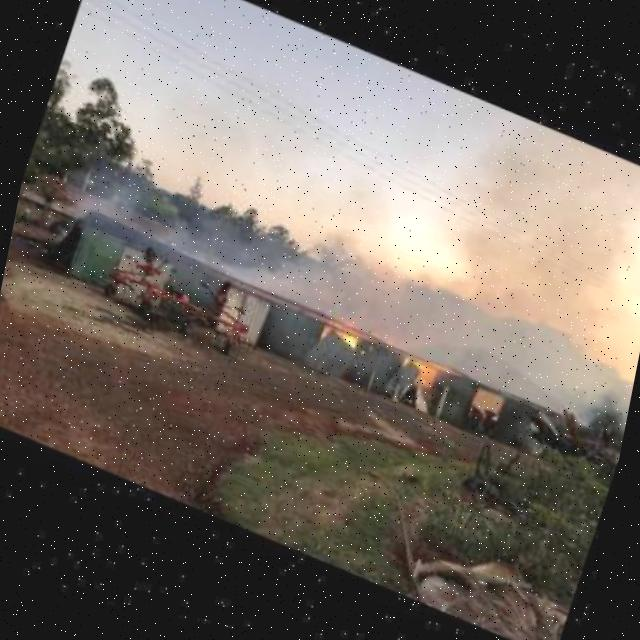fire: (409, 357, 448, 383)
